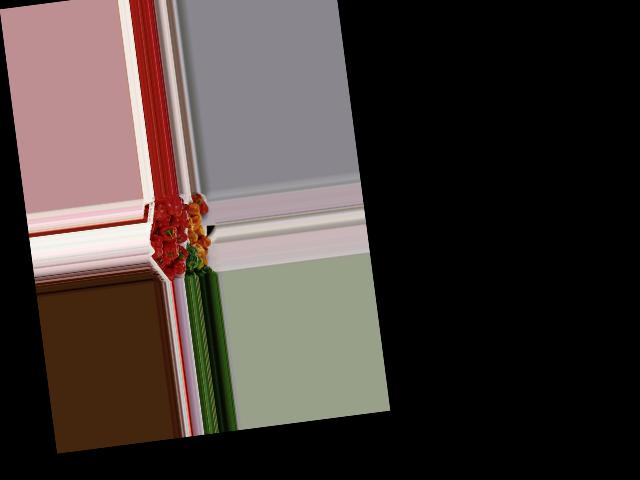bell_pepper: (147, 232, 164, 259)
